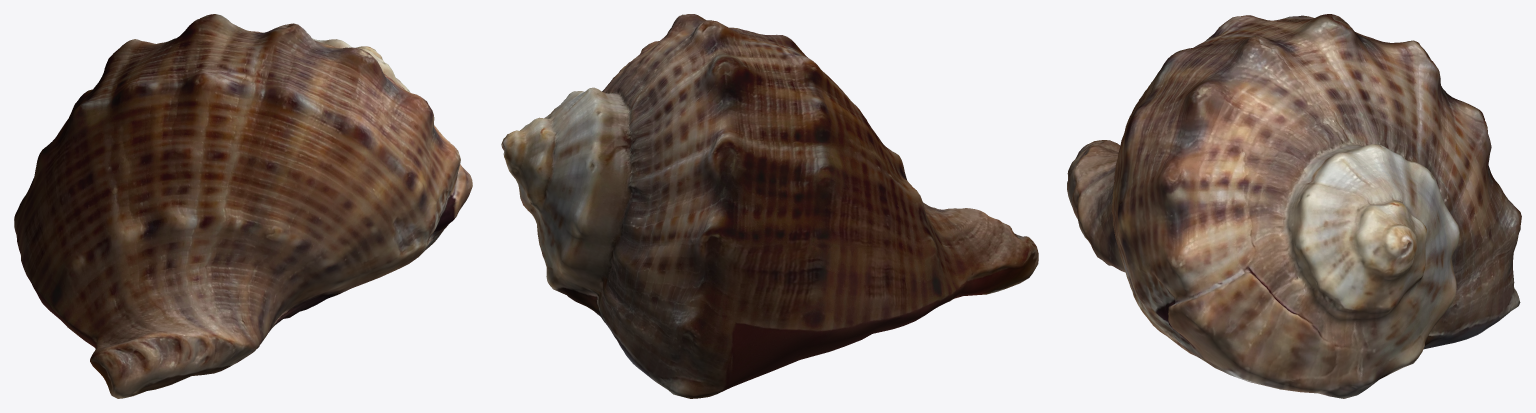
The model's file is uploads_files_4730429_seashell.glb.
3 renders of one model, left to right at view 1: azimuth 30°, elevation 25°; view 2: azimuth 150°, elevation 25°; view 3: azimuth 270°, elevation 25°, orthographic. The views are drawn at different scales.
Parts seen in each view (by area): view 1: submesh; view 2: submesh; view 3: submesh.
Boxes of the visible parts, left/top/right/bottom form: submesh: left=14, top=14, right=472, bottom=398; submesh: left=501, top=14, right=1038, bottom=398; submesh: left=1067, top=14, right=1521, bottom=398.
Bounding box in the file's own units: 0.077 × 0.0492 × 0.0646.
Materials: 1 (1 with a texture image).
